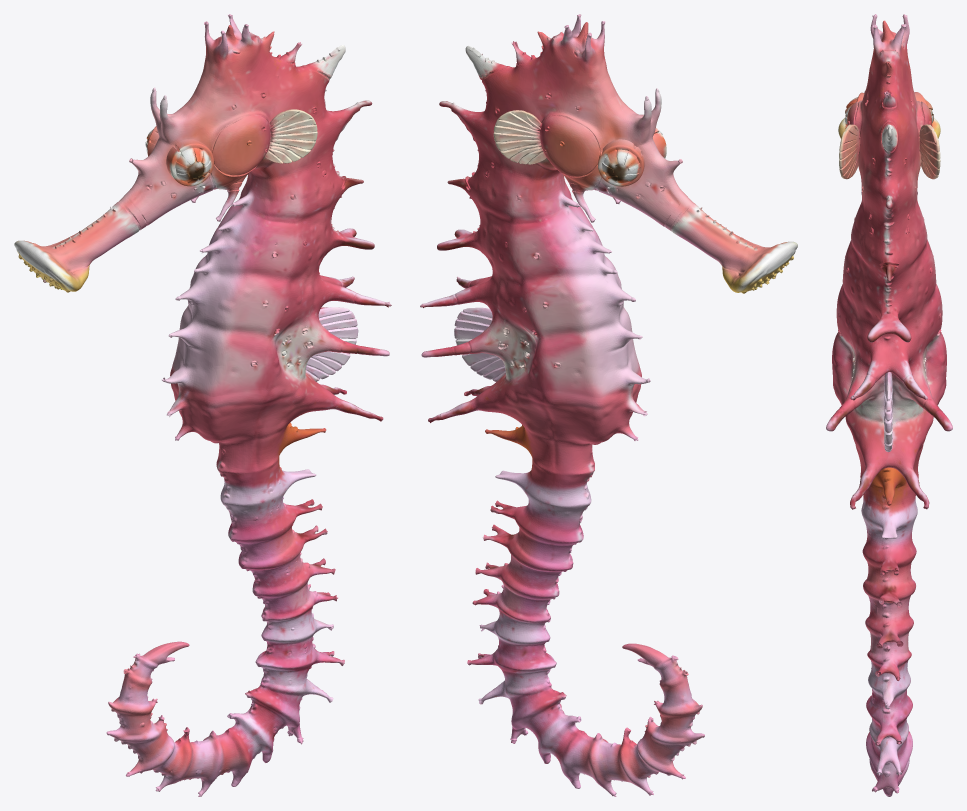
The picture shows the model from 3 angles, left to right: view 1: azimuth 30°, elevation 25°; view 2: azimuth 150°, elevation 25°; view 3: azimuth 270°, elevation 25°; orthographic projection.
Visible parts, largest first — view 1: 9s; view 2: 9s; view 3: 9s.
Boxes of the visible parts, x1=… form: 9s: x1=14, y1=14, x2=391, y2=796; 9s: x1=420, y1=14, x2=797, y2=796; 9s: x1=826, y1=14, x2=952, y2=796.
Bounding box in the file's own units: 0.4131 × 0.8837 × 0.1312.
Materials: 1 (1 with a texture image).
